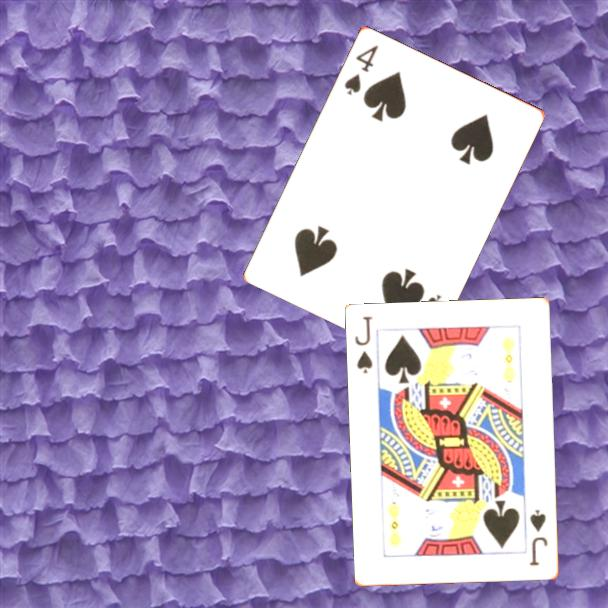s04: (341, 41, 381, 98)
s11: (352, 313, 376, 376), (527, 507, 551, 569)
